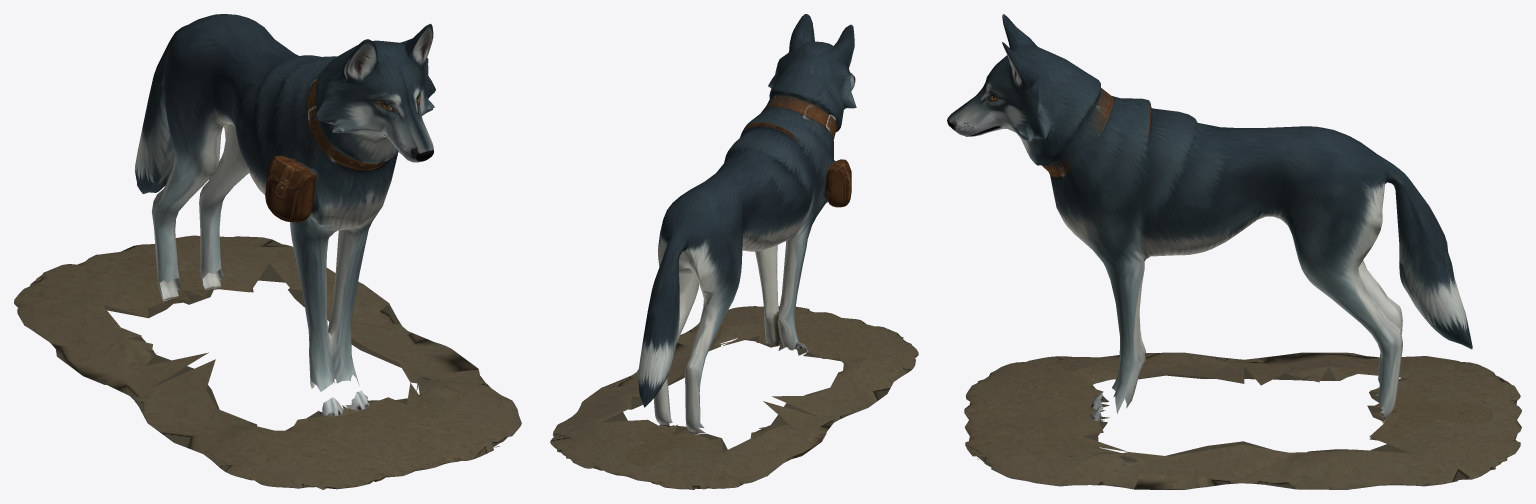
The model's file is pet_hound.glb.
3 renders of one model, left to right at view 1: azimuth 30°, elevation 25°; view 2: azimuth 150°, elevation 25°; view 3: azimuth 270°, elevation 25°, orthographic. The views are drawn at different scales.
Size of the model in its own units: 1.04 by 1.39 by 1.84.
1 material, 1 textured.
